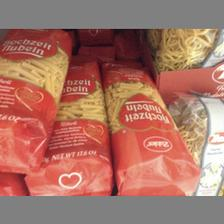Nudeln: (102, 60, 202, 194), (27, 56, 108, 192), (1, 28, 72, 170)
